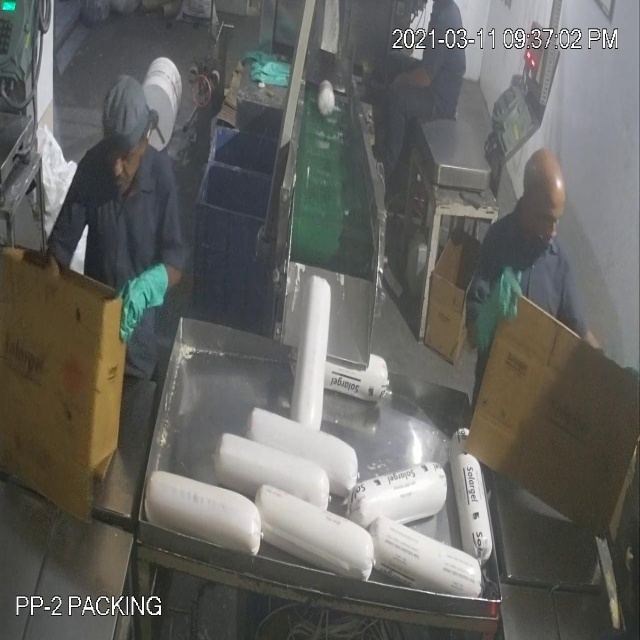Guantes: (469, 262, 522, 369)
